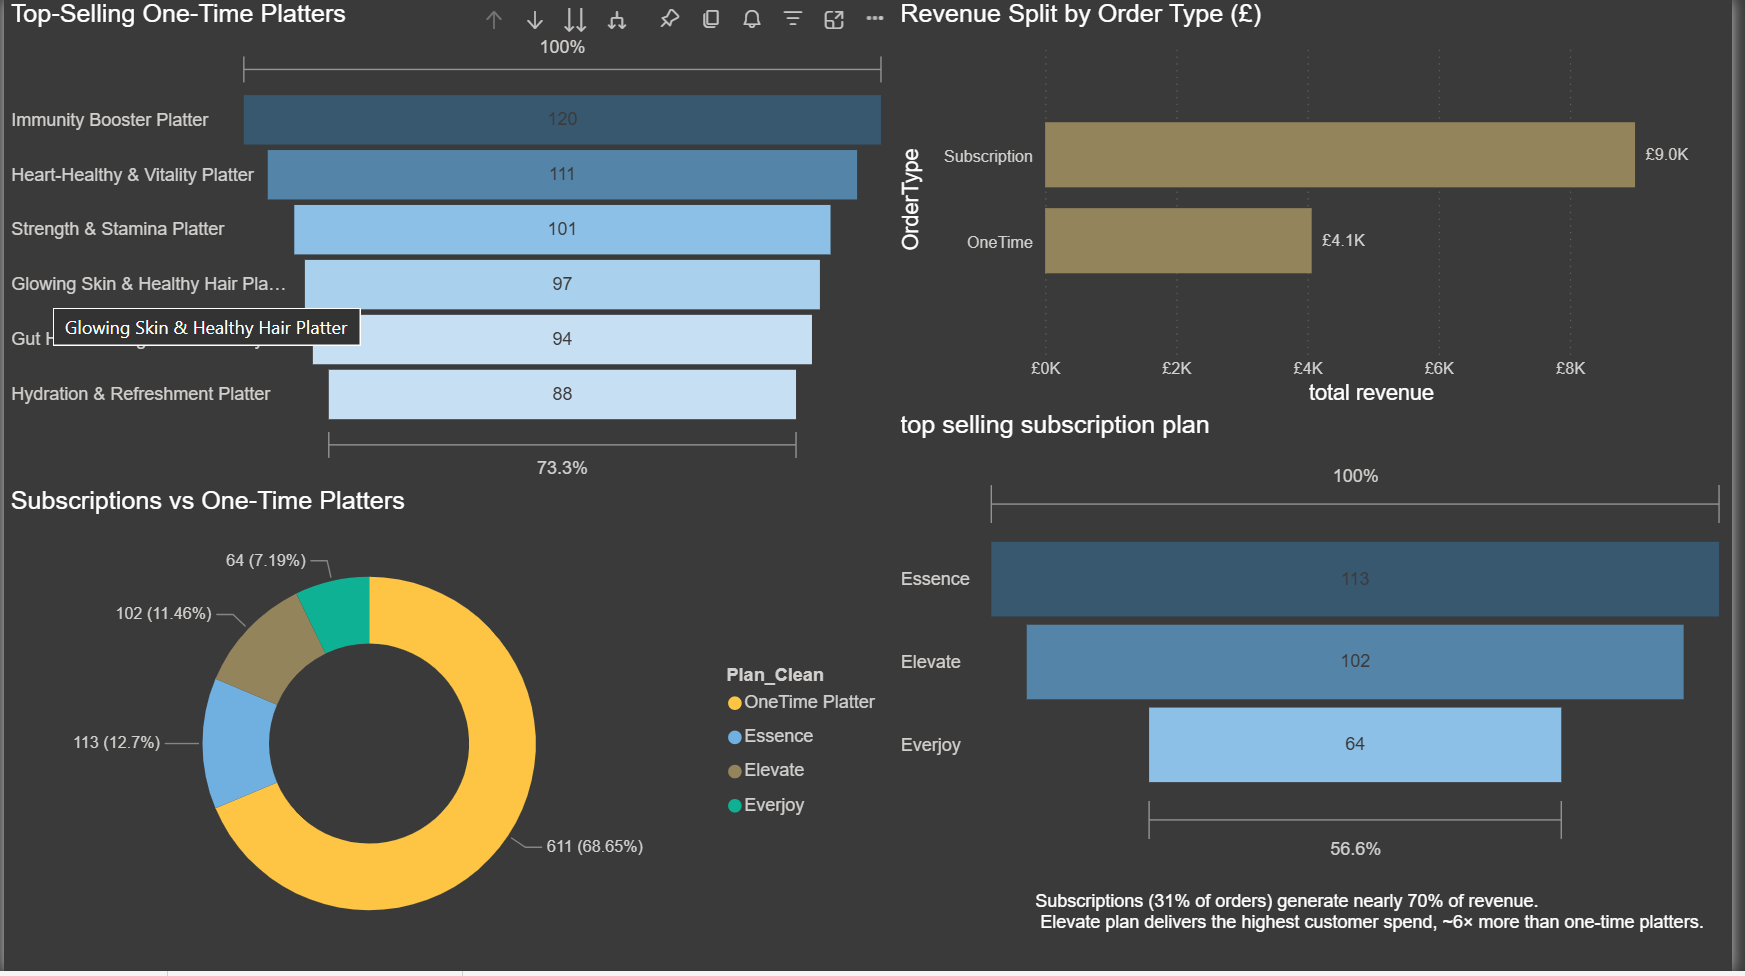

Layout of this report page (visuals, bound fields, positions):
{"tool":"powerbi","page":{"name":"Product& pricing","canvas":[1280,720],"ordinal":3},"visuals":[{"type":"donutChart","title":"Subscriptions vs One-Time Platters","fields":{"Y":["CountNonNull(orders_clean.OrderID)"],"Category":["orders_clean.Plan_Clean"]},"box":[0,361.1,659.3,359.5],"z":0},{"type":"funnel","title":"Top-Selling One-Time Platters","fields":{"Category":["orders_clean.Product","orders_clean.OrderType"],"Y":["CountNonNull(orders_clean.OrderID)"]},"box":[0,0,659.3,361.1],"z":1000},{"type":"barChart","title":"Revenue Split by Order Type (£)","fields":{"Category":["orders_clean.OrderType"],"Y":["orders_clean.total revenue"]},"box":[659.3,0,611.2,304.8],"z":2000},{"type":"funnel","title":"top selling subscription  plan ","fields":{"Category":["orders_clean.Plan_Clean"],"Y":["CountNonNull(orders_clean.OrderID)"]},"box":[659.3,304.8,621.2,351.2],"z":3000},{"type":"textbox","box":[758.7,656,521.8,64.6],"z":4000}]}

Visuals, with their boxes on the page's 1280x720 design canvas (x1, y1, x2, y2). These are canvas units, not pixel positions in the 1745x976 screenshot, which may show the page scaled, cropped or inside an application window:
"Subscriptions vs One-Time Platters" donutChart: [0, 361, 659, 721]
"Top-Selling One-Time Platters" funnel: [0, 0, 659, 361]
"Revenue Split by Order Type (£)" barChart: [659, 0, 1270, 305]
"top selling subscription  plan " funnel: [659, 305, 1280, 656]
textbox: [759, 656, 1280, 721]
